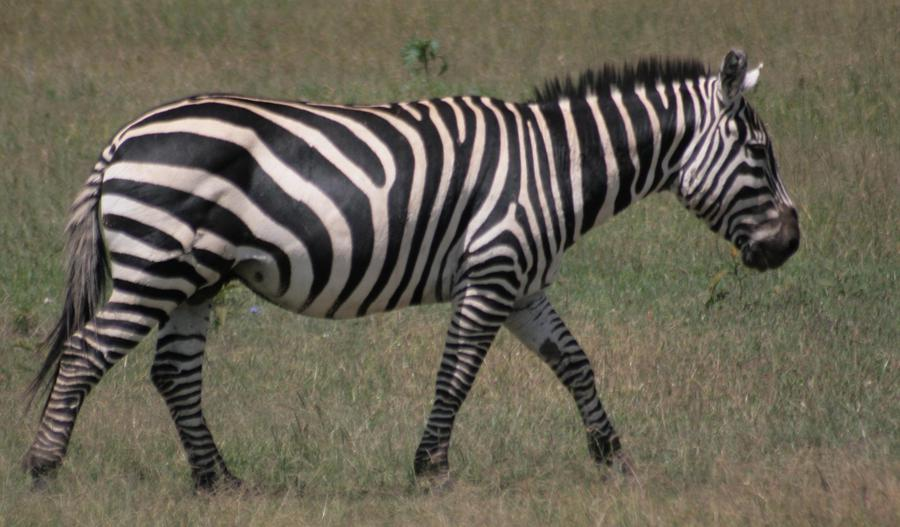zebra_plains: (104, 85, 558, 308)
